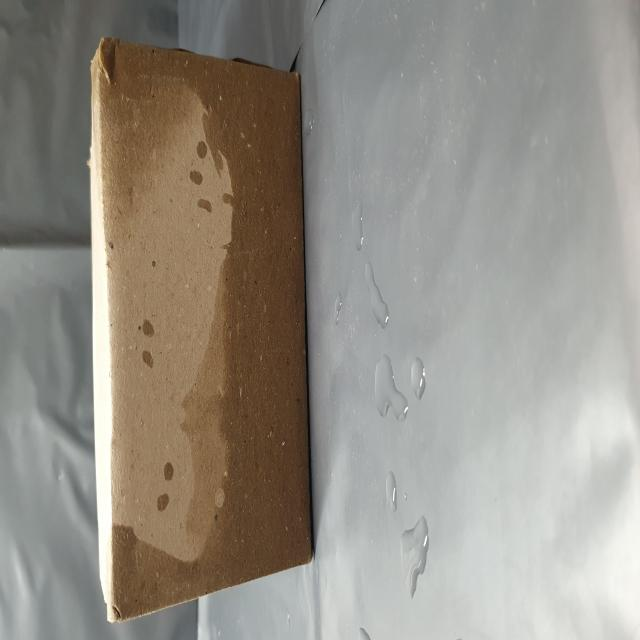wet: (24, 164, 333, 562)
